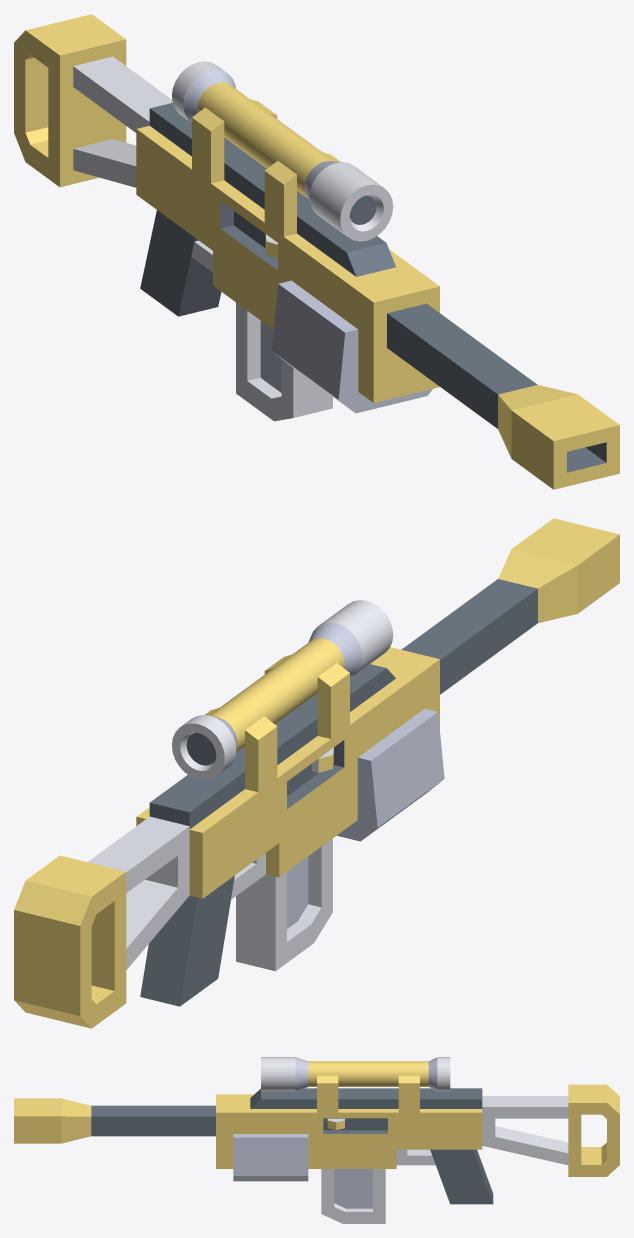
File: blaster_Sniper.fbx
3 views of the same model, one above another, from view 1: azimuth 30°, elevation 25°; view 2: azimuth 150°, elevation 25°; view 3: azimuth 270°, elevation 25° (orthographic). The views are drawn at different scales.
Visible parts, largest first — view 1: blasterE; view 2: blasterE; view 3: blasterE.
Boxes of the visible parts, left/top/right/bottom form: blasterE: left=14, top=14, right=619, bottom=489; blasterE: left=14, top=518, right=619, bottom=1028; blasterE: left=14, top=1057, right=619, bottom=1223.
Bounding box in the file's own units: 16 × 41 × 141.
